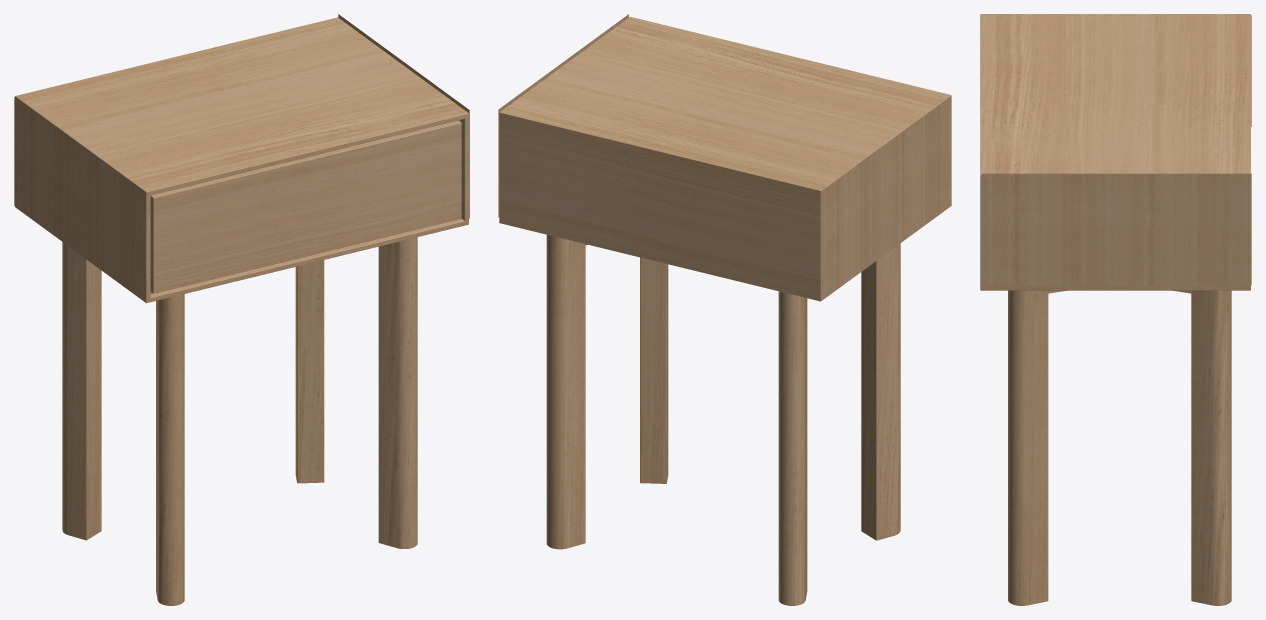
File: outa.glb
3 views of the same model, side by side, from view 1: azimuth 30°, elevation 25°; view 2: azimuth 150°, elevation 25°; view 3: azimuth 270°, elevation 25° (orthographic). The views are drawn at different scales.
Parts seen in each view (by area): view 1: Box002_001.001, Plane_Right_Side.001, Box002.001, Plane_Left_Side.001; view 2: Box002_001.001, Plane_Right_Side.001, Plane_Left_Side.001; view 3: Box002_001.001, Plane_Left_Side.001.
Part boxes in pixels (x1,y1,x2,y2): Box002_001.001: (15, 17, 468, 605); Plane_Right_Side.001: (14, 97, 145, 301); Box002.001: (146, 114, 468, 302); Plane_Left_Side.001: (338, 14, 469, 218); Box002_001.001: (499, 16, 951, 605); Plane_Right_Side.001: (821, 97, 951, 300); Plane_Left_Side.001: (498, 14, 628, 217); Box002_001.001: (980, 14, 1250, 605); Plane_Left_Side.001: (981, 173, 1251, 285).
Bounding box in the file's own units: 2.21 × 2.84 × 1.55.
Materials: 3 (3 with a texture image).
